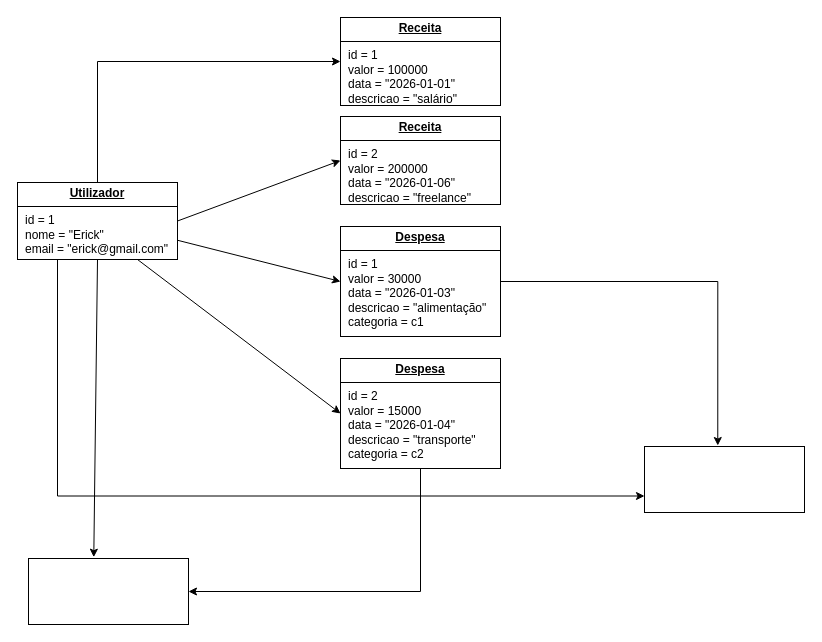
The diagram is 822 pixels wide and 642 high, and some of its shapes have lost their labels. The box of each missing label's shape, as (x1, y1, x2, y2) in pixels:
Categoria id = 1 nome = "comida": (644, 446, 804, 512)
Categoria id = 2 nome = "transporte": (28, 558, 188, 624)
